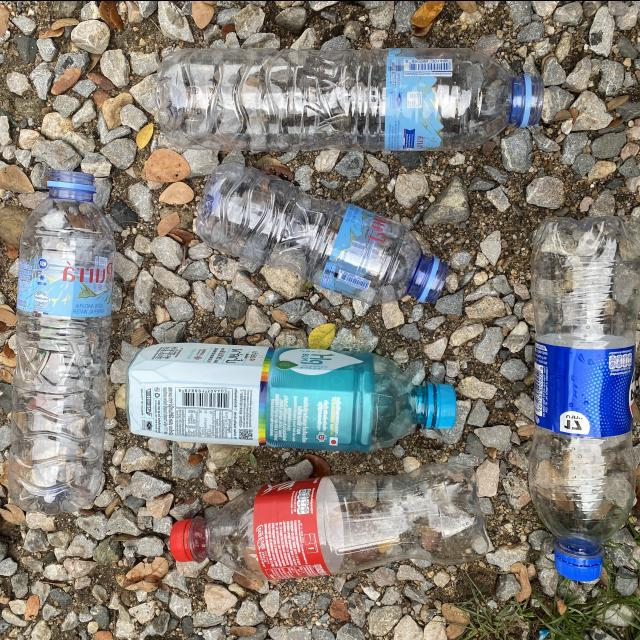plastik: (530, 215, 640, 581), (156, 47, 543, 150), (170, 462, 491, 578), (8, 169, 115, 514), (128, 342, 455, 452), (197, 161, 448, 303)
